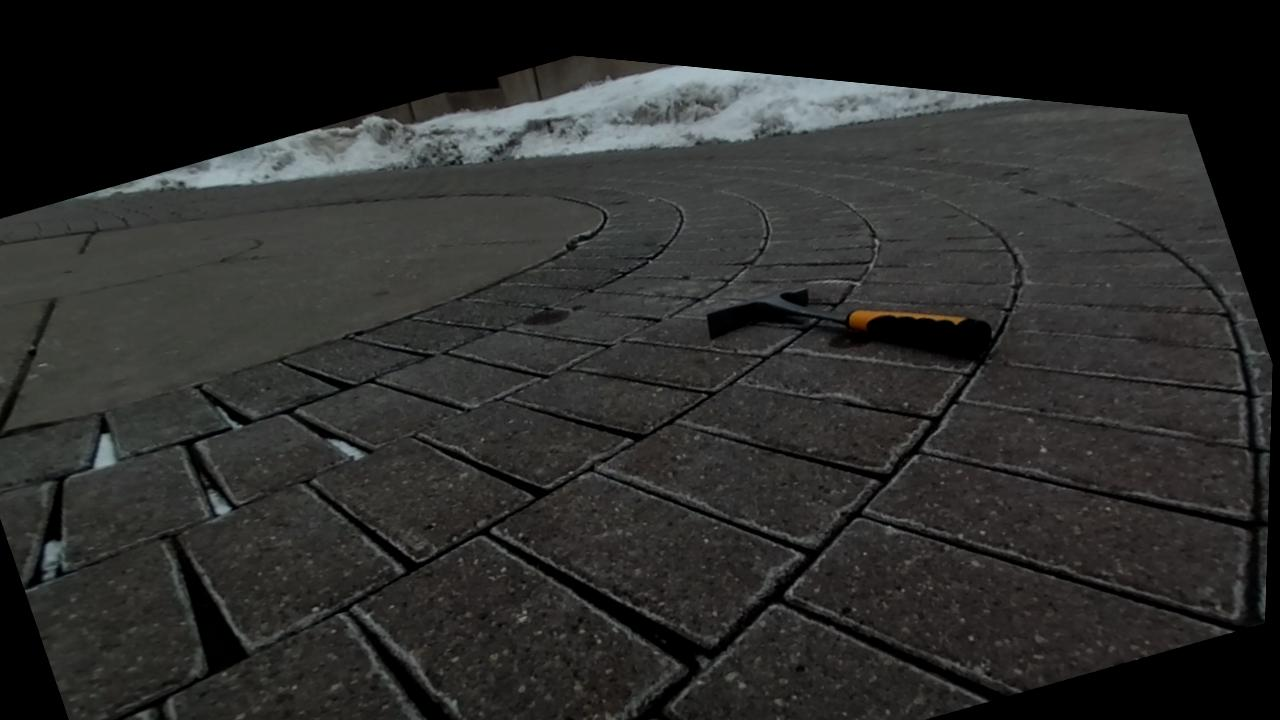pick: (705, 288, 991, 356)
